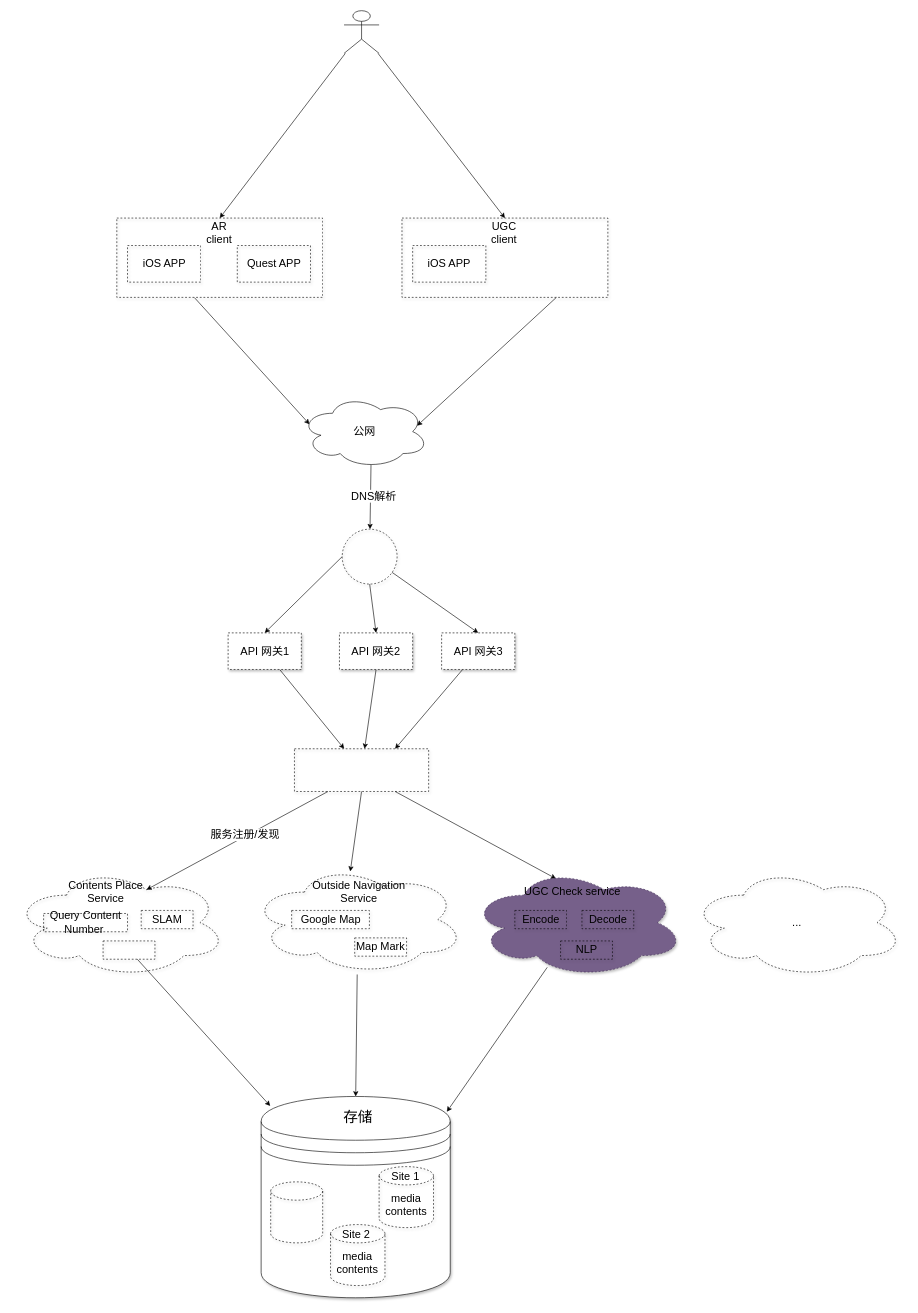
Some shapes in this 918 by 1313 pixel diagram are drawn without their labels. Here are the shapes that lost their labels. From the top down, the centre of each, then its label:
At (361,31): "User".
At (370,557): "反向代理".
At (361,771): "service monitor center".
At (129,950): "Get the Content".
At (297,1213): "user data".
